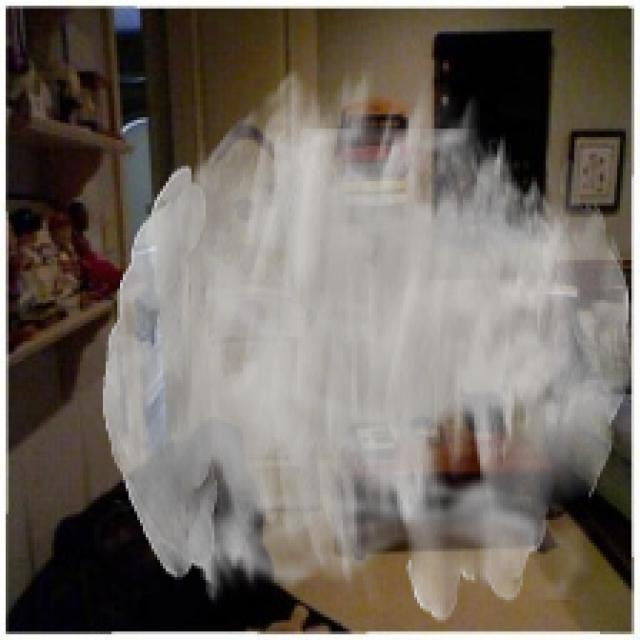Smoke: (103, 63, 632, 623)
